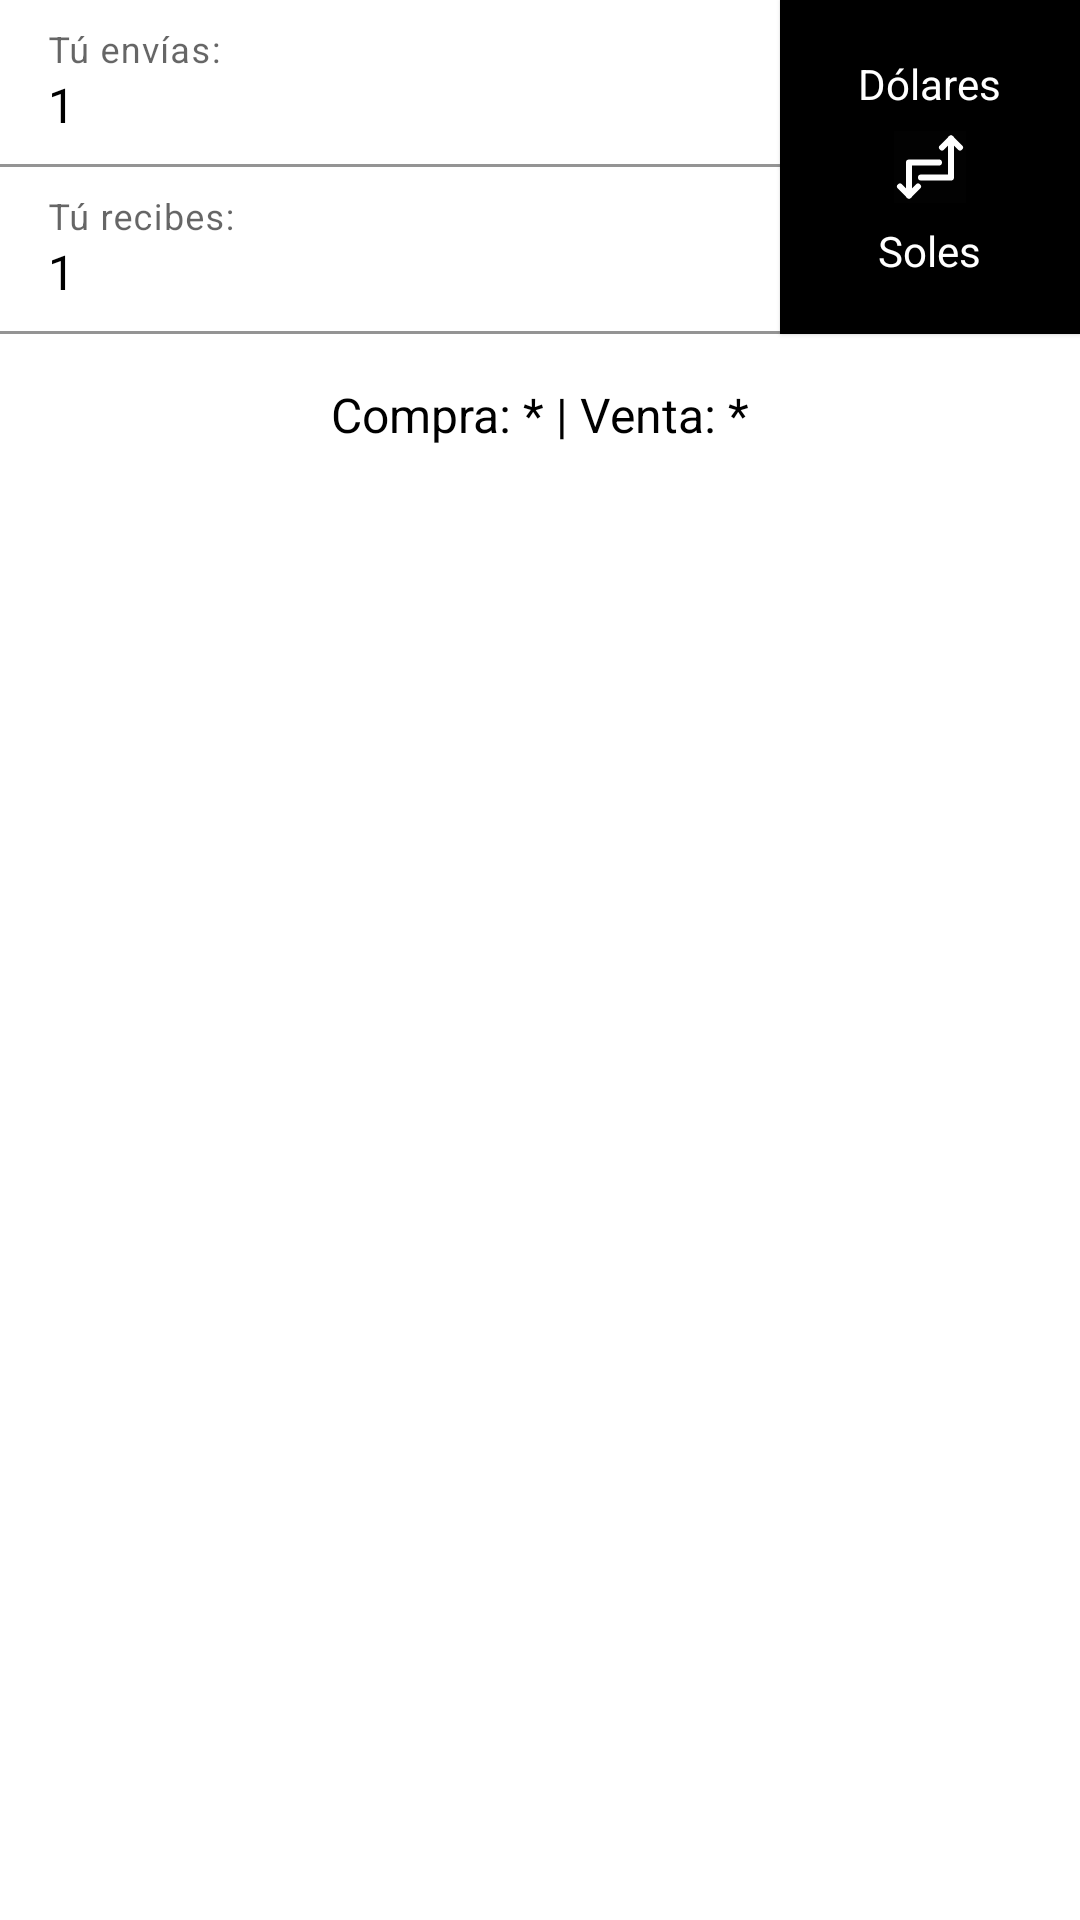

Icons on this 1080px x 1920px Android screen, each with the point to tap as [x,y]:
change: [930,167]
